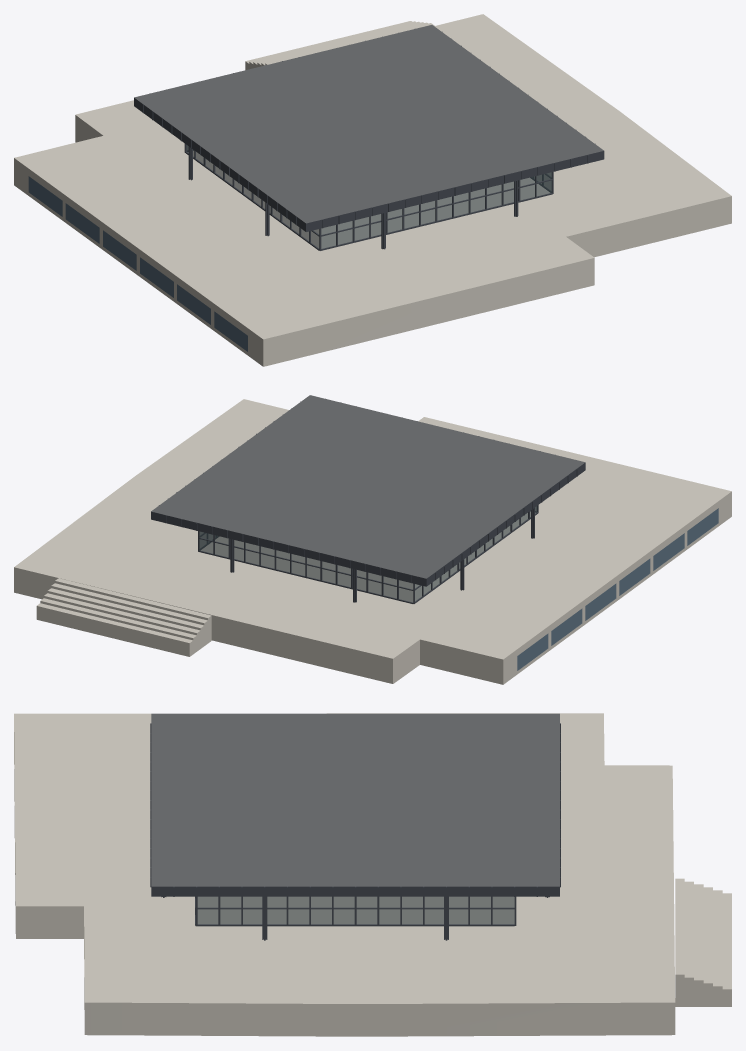
Rendered from berlin-neue-nationalgalerie.glb.
3 renders of one model, top to bottom at view 1: azimuth 30°, elevation 25°; view 2: azimuth 150°, elevation 25°; view 3: azimuth 270°, elevation 25°, orthographic. The views are drawn at different scales.
Parts seen in each view (by area): view 1: Neue Nationalgalerie; view 2: Neue Nationalgalerie; view 3: Neue Nationalgalerie.
Boxes of the visible parts, bbox=[...] form: Neue Nationalgalerie: bbox=[14, 14, 731, 366]; Neue Nationalgalerie: bbox=[14, 395, 731, 684]; Neue Nationalgalerie: bbox=[14, 713, 731, 1036].
Size of the model in its own units: 109 by 15.9 by 114.
